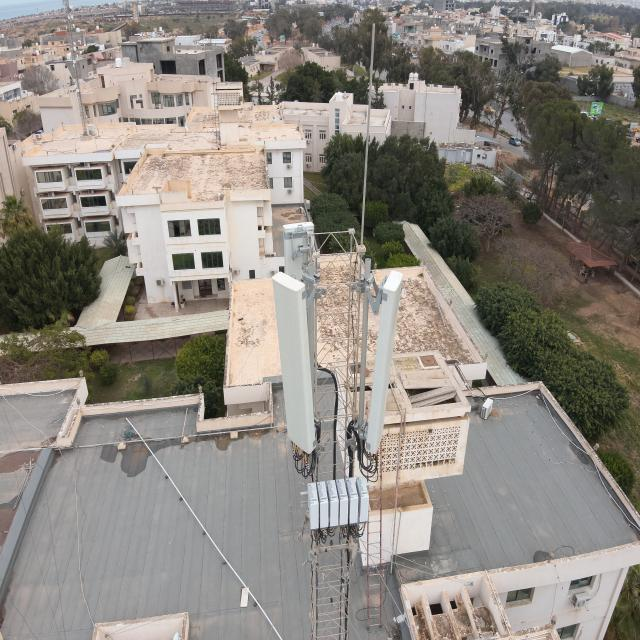antenna: (268, 264, 321, 456), (280, 216, 326, 422), (360, 264, 407, 459)
lighnig-rad: (356, 18, 380, 253)
radio-unit: (303, 475, 377, 532)
